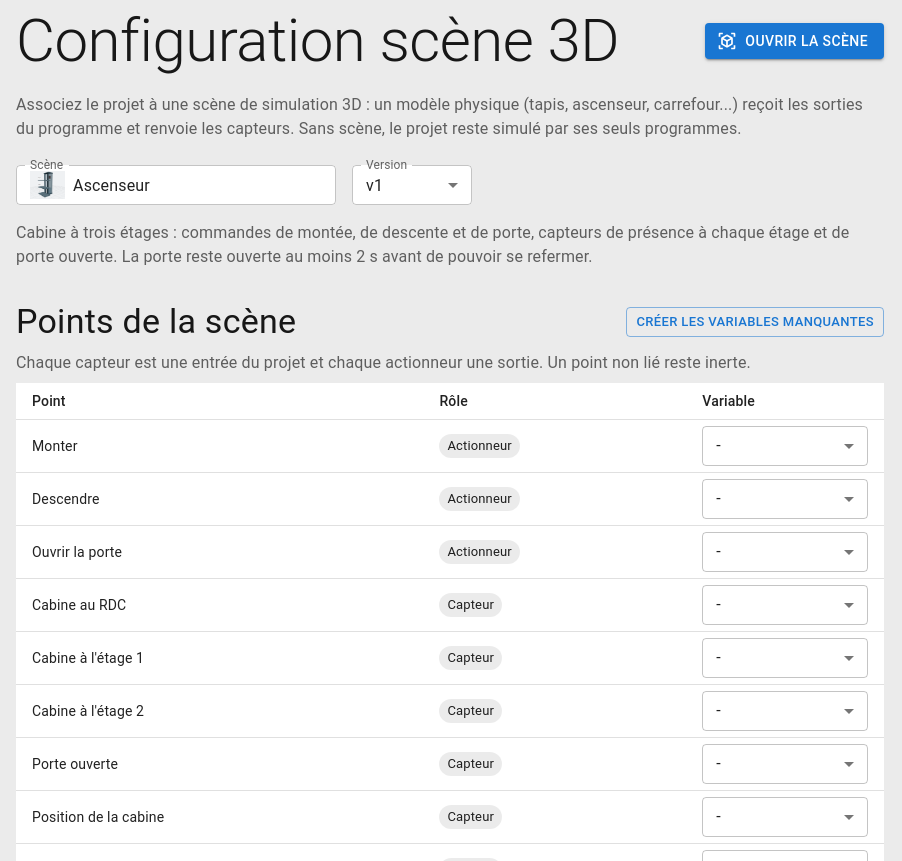
Scenario: Scene3dConfigurationPage › n'offre pour un point que les variables de la bonne direction et du bon type
This screenshot has width=902, height=861.
Press the mouse on the dropdown labelled "-" in the row of "Monter" at [719, 446], box [716,436,721,456]
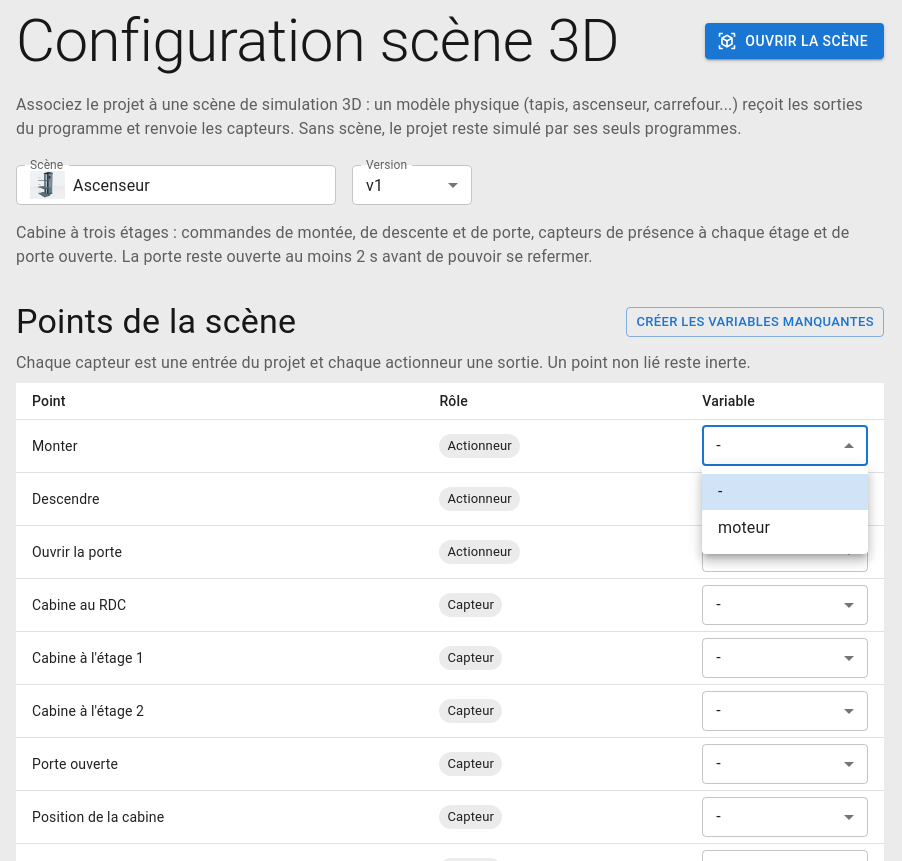
Expected: the options read "-", "moteur", in this order, [702,474,868,510]; [718,518,770,537]
